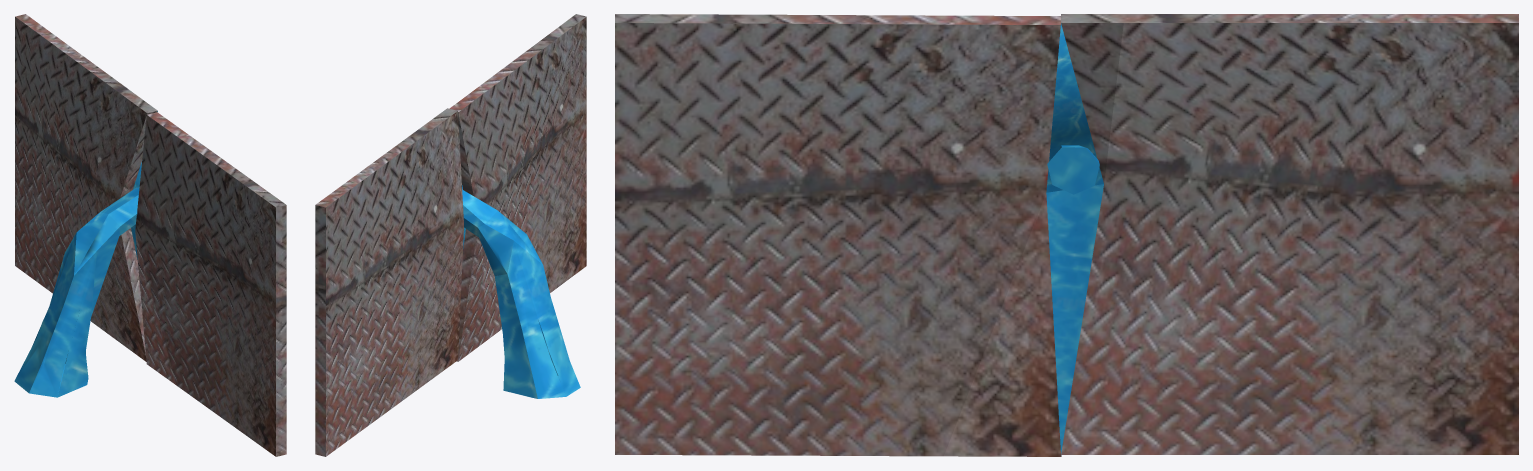
File: ParedeAberta4glb.glb
3 renders of one model, left to right at view 1: azimuth 30°, elevation 25°; view 2: azimuth 150°, elevation 25°; view 3: azimuth 270°, elevation 25°, orthographic. The views are drawn at different scales.
Visible parts, largest first — view 1: Parede, Fonte; view 2: Parede, Fonte; view 3: Parede, Agua, Fonte.
Boxes of the visible parts, x1=… form: Parede: x1=15, y1=14, x2=286, y2=456; Fonte: x1=14, y1=187, x2=139, y2=397; Parede: x1=315, y1=14, x2=586, y2=456; Fonte: x1=462, y1=189, x2=580, y2=398; Parede: x1=615, y1=14, x2=1518, y2=456; Agua: x1=1046, y1=23, x2=1103, y2=456; Fonte: x1=1047, y1=145, x2=1099, y2=194.
Bounding box in the file's own units: 4.08 × 7.45 × 14.05.
Materials: 1 (1 with a texture image).
